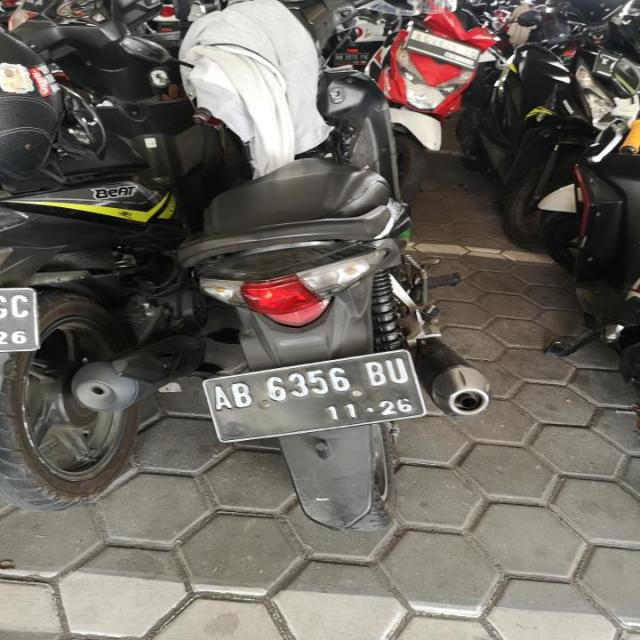License Plate: (197, 348, 431, 446), (402, 27, 482, 71)
